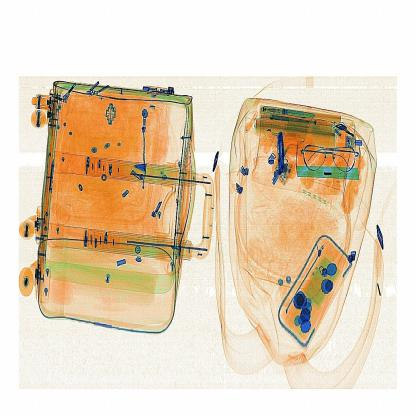knife: (268, 121, 292, 177)
